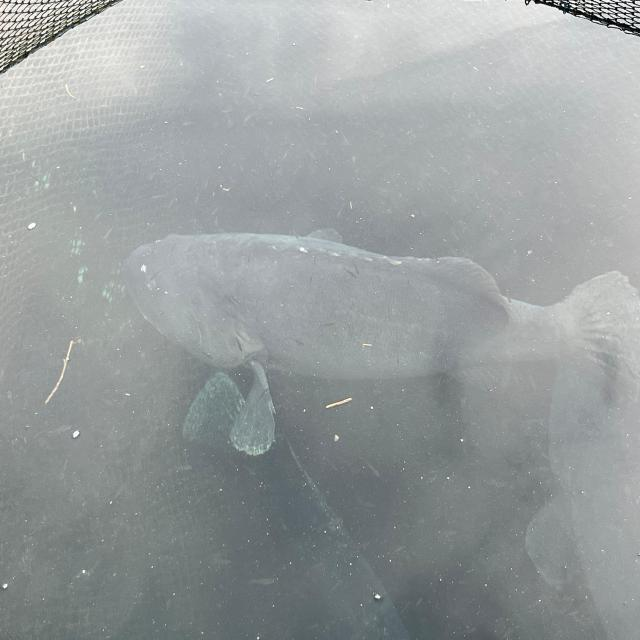ikan: (124, 205, 586, 453)
